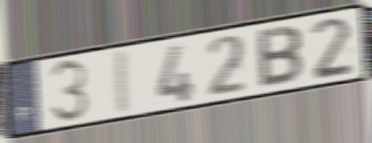2: (309, 15, 358, 83), (205, 33, 248, 100)
3: (47, 57, 91, 125)
4: (155, 40, 197, 105)
B: (256, 23, 305, 91)
I: (113, 46, 133, 119)
